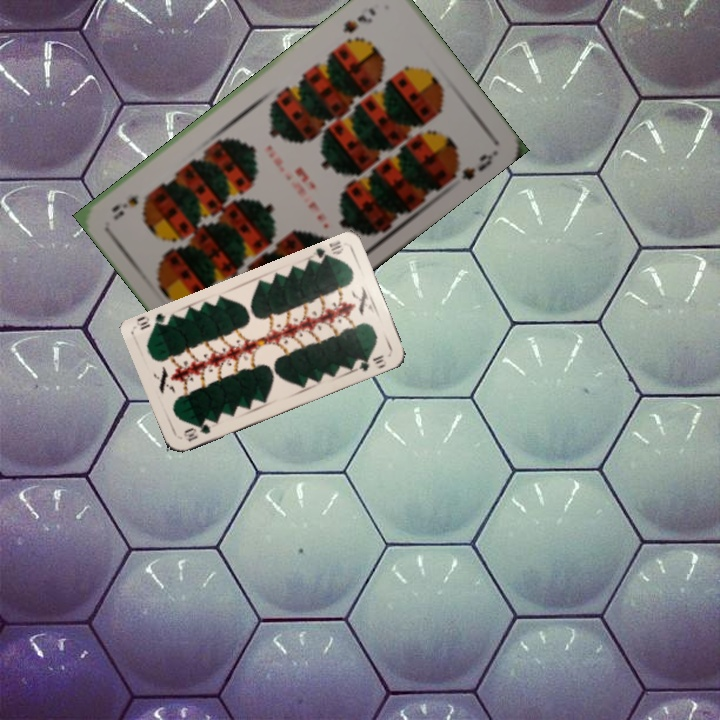G10: (309, 237, 346, 266), (179, 420, 213, 444)
S9: (338, 3, 379, 36)
